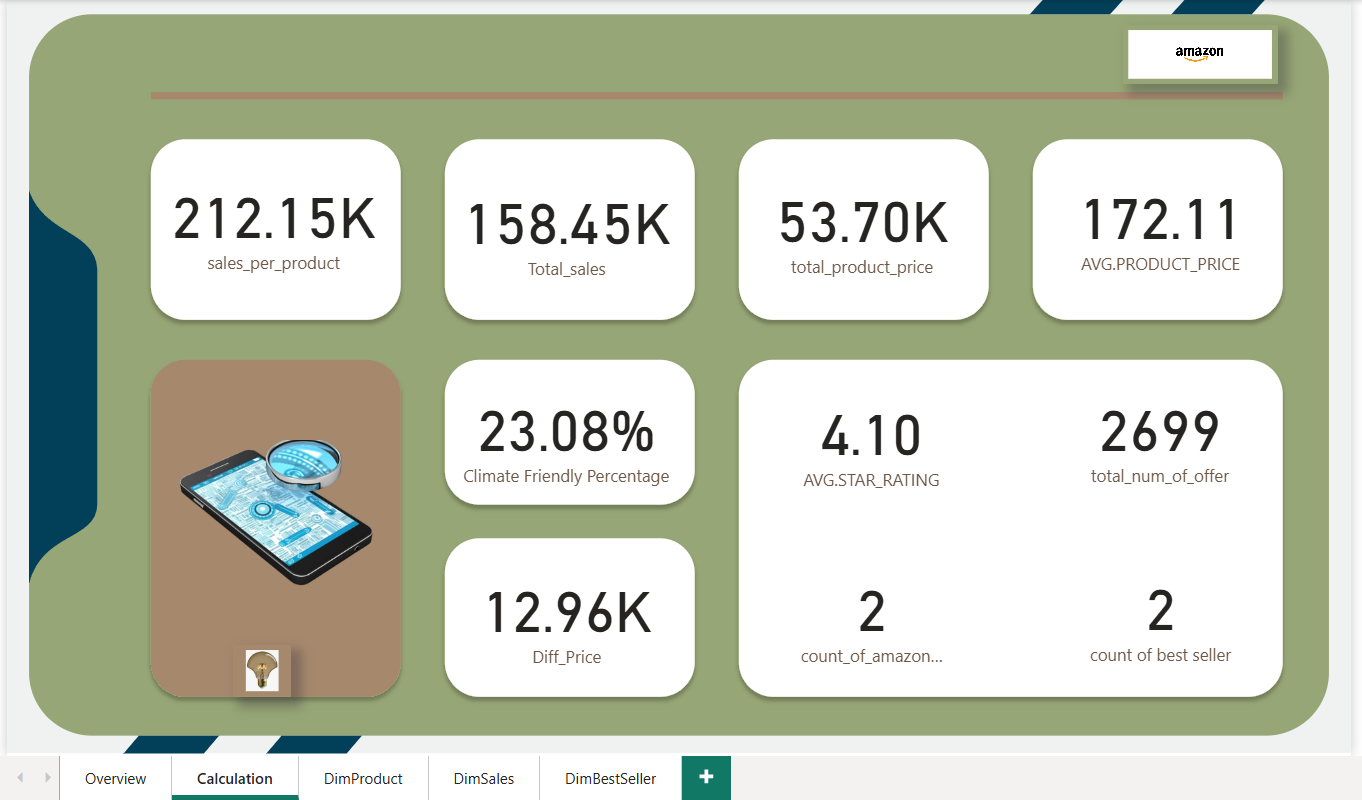

The page's visual inventory and layout, read from the dashboard file:
{"tool":"powerbi","page":{"name":"Calculation","canvas":[1280,720],"ordinal":1},"visuals":[{"type":"card","fields":{"Values":["output (3).AVG.PRODUCT_PRICE"]},"box":[977,134.5,242.9,156.4],"z":0},{"type":"card","fields":{"Values":["output (3).AVG.STAR_RATING"]},"box":[701.2,348.5,244.3,138.6],"z":1000},{"type":"card","fields":{"Values":["output (3).total_product_price"]},"box":[701.2,131.7,226.4,167.4],"z":2000},{"type":"card","fields":{"Values":["output (3).total_num_of_offer"]},"box":[994.9,341.7,205.8,145.5],"z":3000},{"type":"card","fields":{"Values":["output (3).Climate Friendly Percentage"]},"box":[392.9,331,279.8,166.7],"z":4000},{"type":"card","fields":{"Values":["output (3).sales_per_product"]},"box":[129.8,132.1,248.8,158.3],"z":5000},{"type":"card","fields":{"Values":["output (3).Total_sales"]},"box":[414.3,138.1,238.1,158.3],"z":6000},{"type":"image","box":[134.5,414.4,241.5,150.9],"z":7000},{"type":"image","box":[215.4,614.8,54.9,49.4],"z":8000},{"type":"image","box":[1063.5,23.3,146.8,56.3],"z":9000},{"type":"card","fields":{"Values":["Phone search.Diff_Price"]},"box":[414.3,510.7,238.1,152.4],"z":10000},{"type":"card","fields":{"Values":["Phone search.count of best seller"]},"box":[1023.8,522.6,150,125],"z":11000},{"type":"card","fields":{"Values":["Phone search.count_of_amazon_choice"]},"box":[748.8,510.7,150,150],"z":12000}]}

Visuals, with their boxes on the page's 1280x720 design canvas (x1, y1, x2, y2). These are canvas units, not pixel positions in the 1362x800 screenshot, which may show the page scaled, cropped or inside an application window:
card - output (3).AVG.PRODUCT_PRICE: pyautogui.locateOnScreen(977, 134, 1220, 291)
card - output (3).AVG.STAR_RATING: pyautogui.locateOnScreen(701, 348, 946, 487)
card - output (3).total_product_price: pyautogui.locateOnScreen(701, 132, 928, 299)
card - output (3).total_num_of_offer: pyautogui.locateOnScreen(995, 342, 1201, 487)
card - output (3).Climate Friendly Percentage: pyautogui.locateOnScreen(393, 331, 673, 498)
card - output (3).sales_per_product: pyautogui.locateOnScreen(130, 132, 379, 290)
card - output (3).Total_sales: pyautogui.locateOnScreen(414, 138, 652, 296)
image: pyautogui.locateOnScreen(134, 414, 376, 565)
image: pyautogui.locateOnScreen(215, 615, 270, 664)
image: pyautogui.locateOnScreen(1064, 23, 1210, 80)
card - Phone search.Diff_Price: pyautogui.locateOnScreen(414, 511, 652, 663)
card - Phone search.count of best seller: pyautogui.locateOnScreen(1024, 523, 1174, 648)
card - Phone search.count_of_amazon_choice: pyautogui.locateOnScreen(749, 511, 899, 661)
